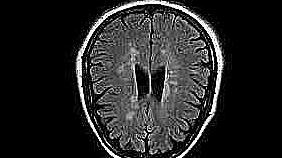Normal_Brain: (1, 1, 282, 158)
